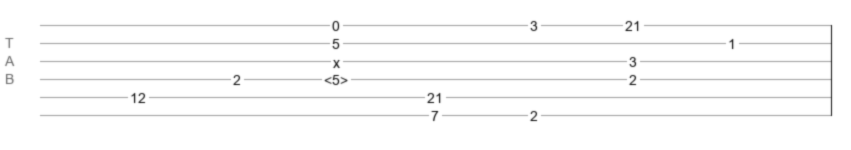0: (332, 18, 340, 28)
1: (728, 36, 736, 46)
12: (130, 90, 146, 100)
2: (233, 72, 241, 82), (530, 108, 538, 118), (629, 72, 637, 82)
21: (427, 90, 443, 100), (625, 18, 641, 28)
3: (530, 18, 538, 28), (629, 54, 637, 64)
5: (332, 36, 340, 46)
7: (431, 108, 439, 118)
harmonic: (324, 72, 348, 82)
x: (333, 55, 340, 63)
